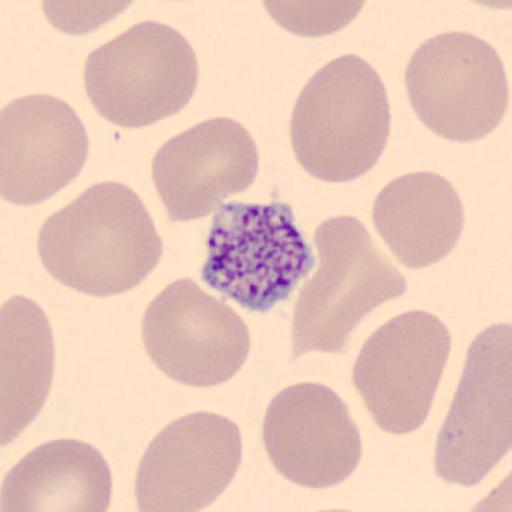Platelet: (197, 196, 319, 315)
RBC: (294, 214, 409, 356), (35, 178, 164, 299), (288, 50, 393, 188), (81, 18, 201, 130), (350, 308, 452, 438), (139, 274, 252, 390), (435, 321, 512, 491), (149, 114, 262, 224), (402, 29, 510, 144), (260, 380, 364, 492), (133, 410, 245, 511), (2, 91, 90, 208), (370, 169, 466, 271), (432, 378, 512, 488), (2, 436, 116, 512), (1, 294, 57, 448), (259, 0, 370, 39), (40, 1, 141, 37), (463, 460, 512, 512), (464, 475, 512, 512), (451, 0, 512, 10), (293, 505, 373, 512)
